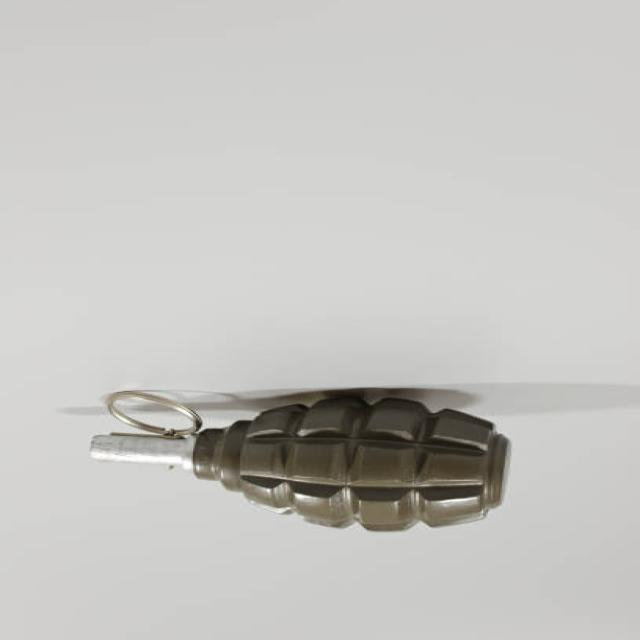grenade: (78, 384, 519, 540)
